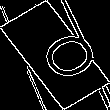O_SW: (17, 23, 93, 87)
